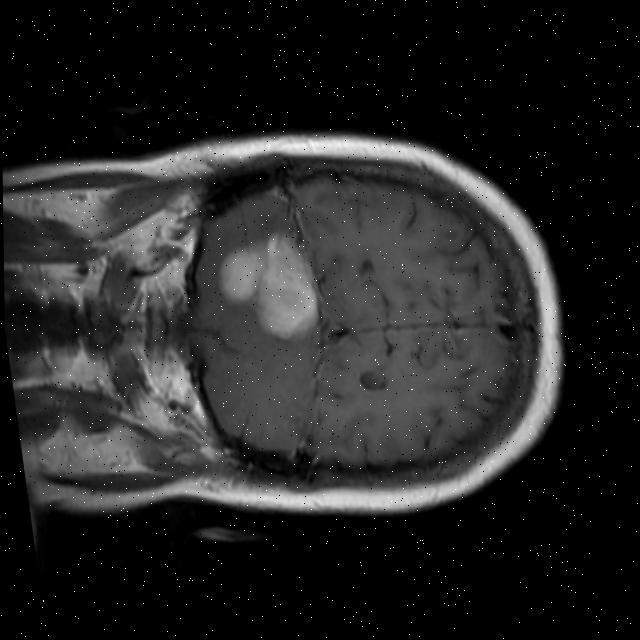Meningioma: (208, 221, 324, 349)
